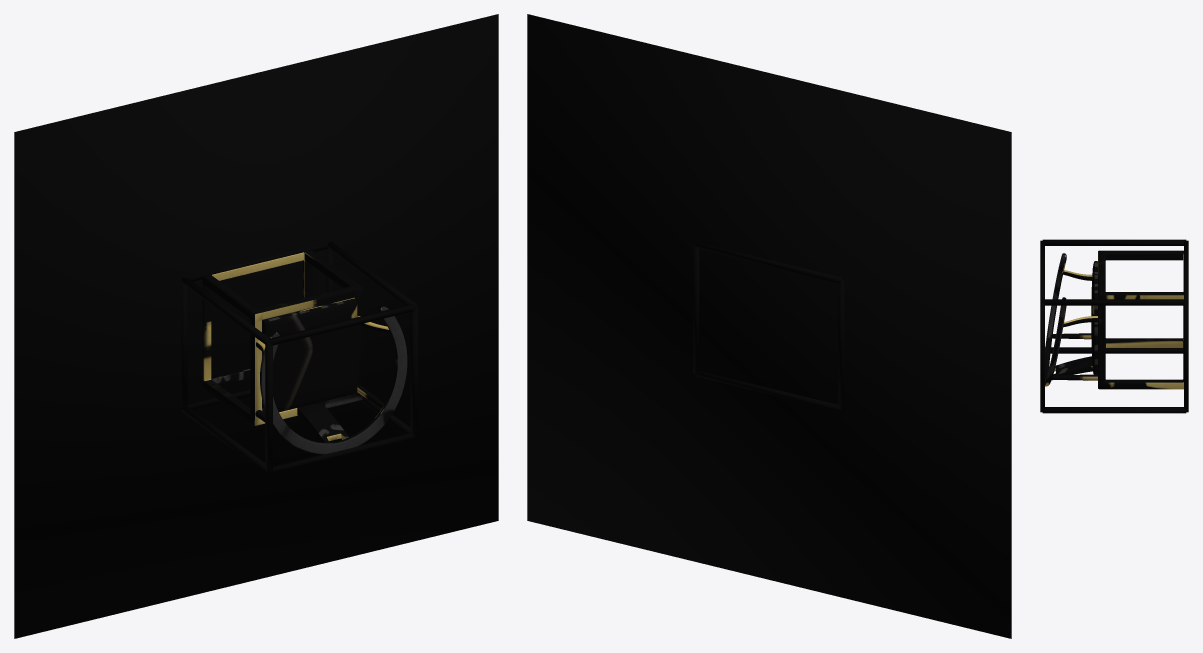
3 renders of one model, left to right at view 1: azimuth 30°, elevation 25°; view 2: azimuth 150°, elevation 25°; view 3: azimuth 270°, elevation 25°, orthographic. The views are drawn at different scales.
Bounding box in the file's own units: 2 × 2 × 0.631.
